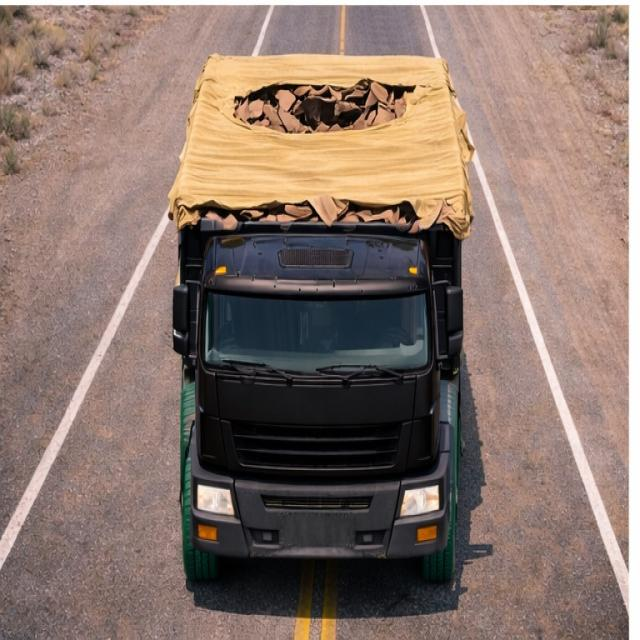Box: (180, 53, 465, 228)
Truck: (170, 26, 472, 582)
